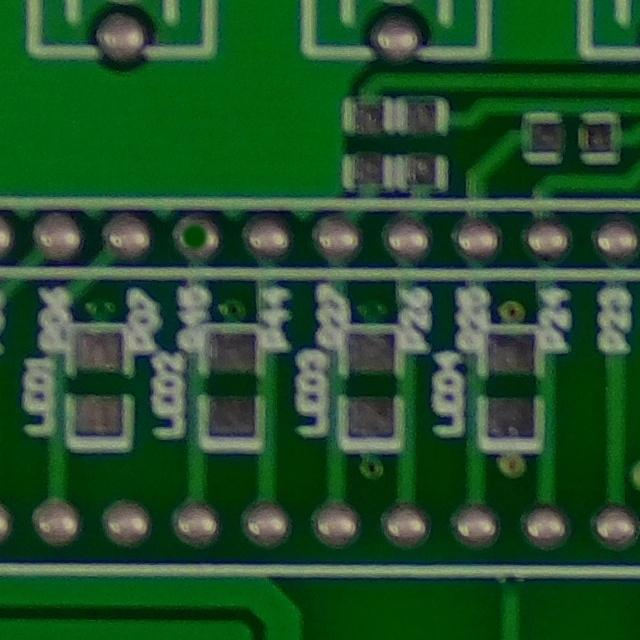missing_hole: (165, 206, 230, 268)
